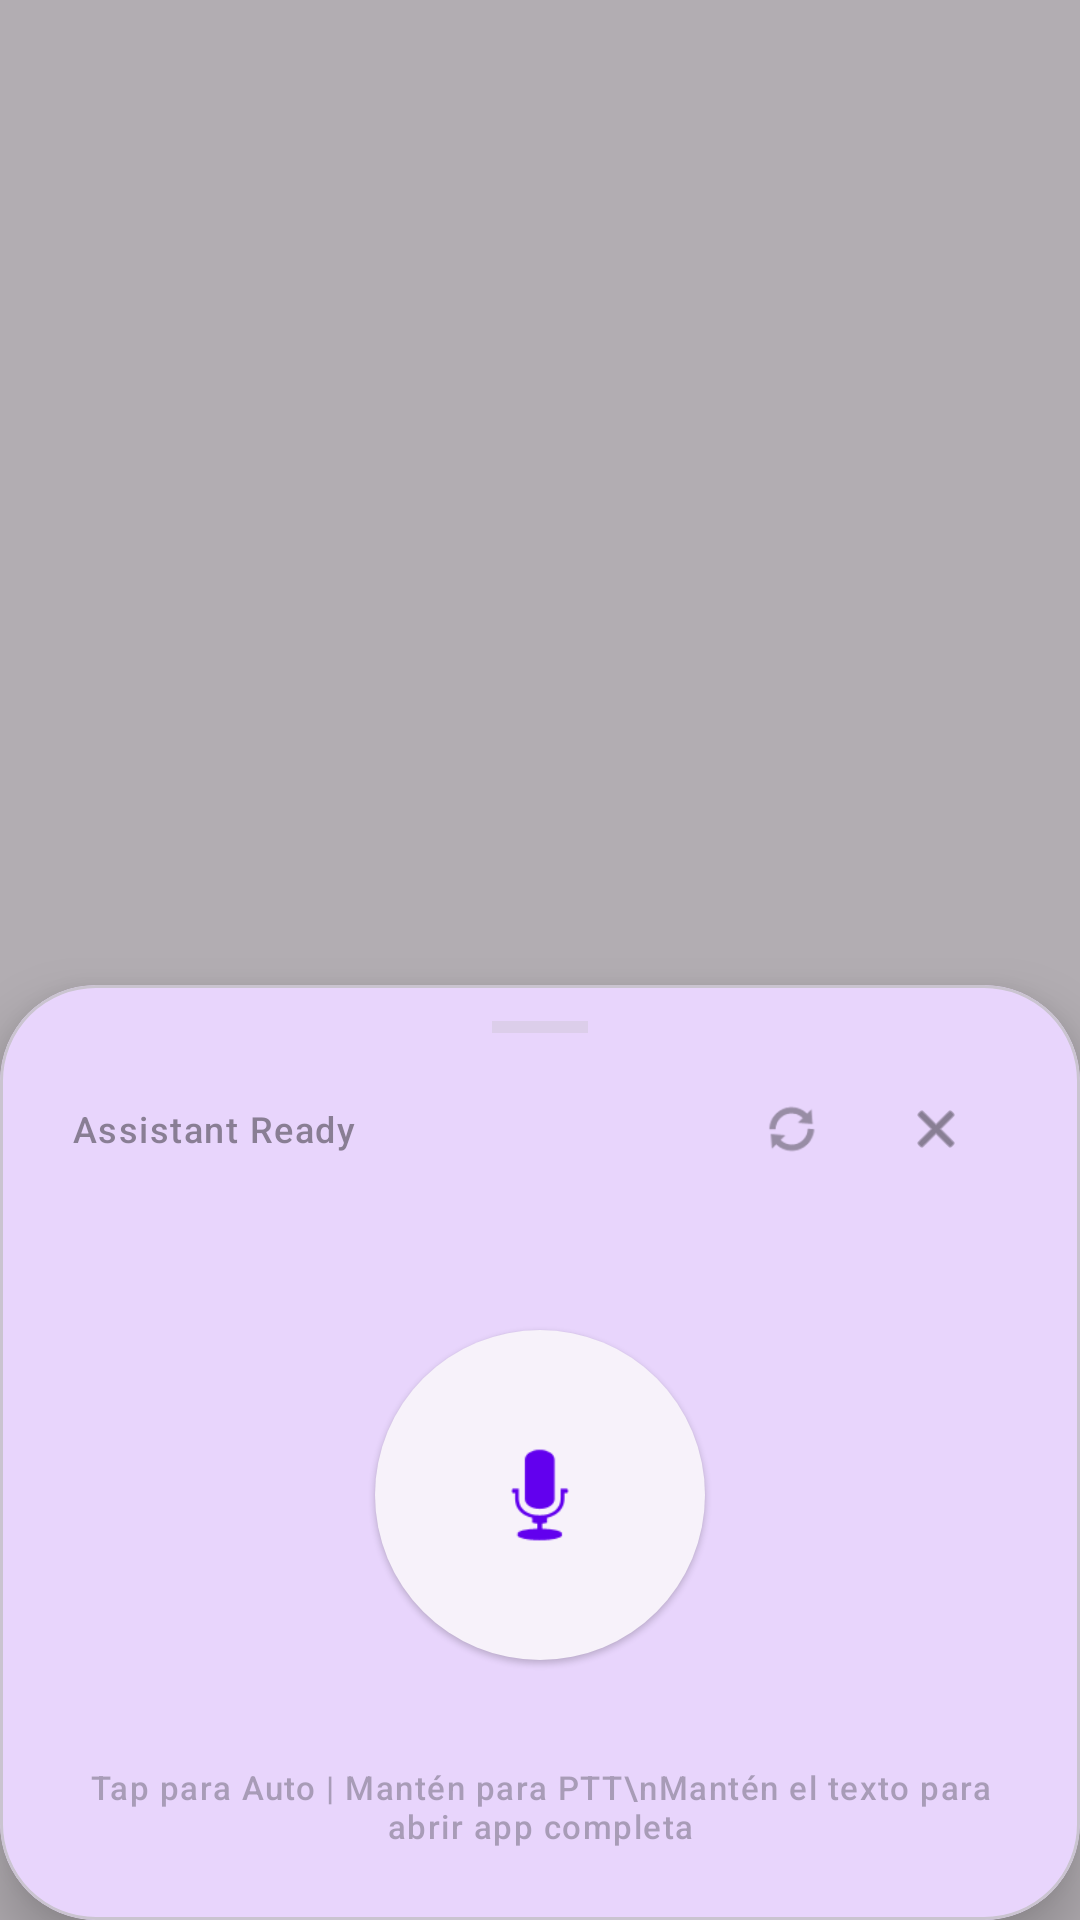

Where icons sit on this 1080w x 1920h app screen, as {"left": x1, "top": y1, "right": x2, "bottom": y2}:
close clear cancel: {"left": 917, "top": 1110, "right": 955, "bottom": 1148}
popup sync: {"left": 769, "top": 1107, "right": 814, "bottom": 1151}
speak now: {"left": 375, "top": 1330, "right": 705, "bottom": 1660}
